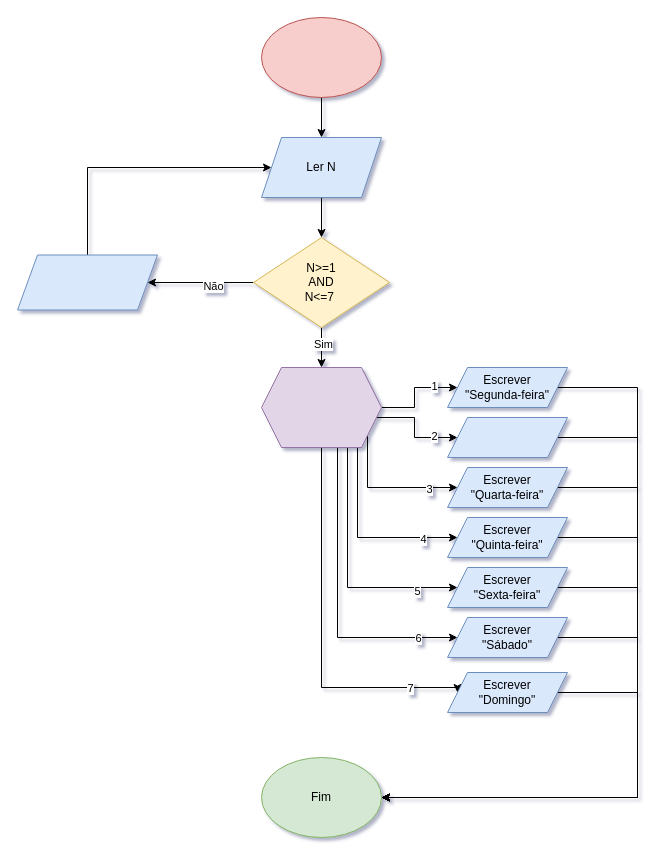
Some shapes in this 669 by 861 pixel diagram are drawn without their labels. Each missing label, with the centre of its shape:
Caso N: [321,407]
Escrever "ERRO: Número de 1 a 7, por favor": [87,282]
Escrever "Terça-feira": [507,437]
Início: [321,57]
